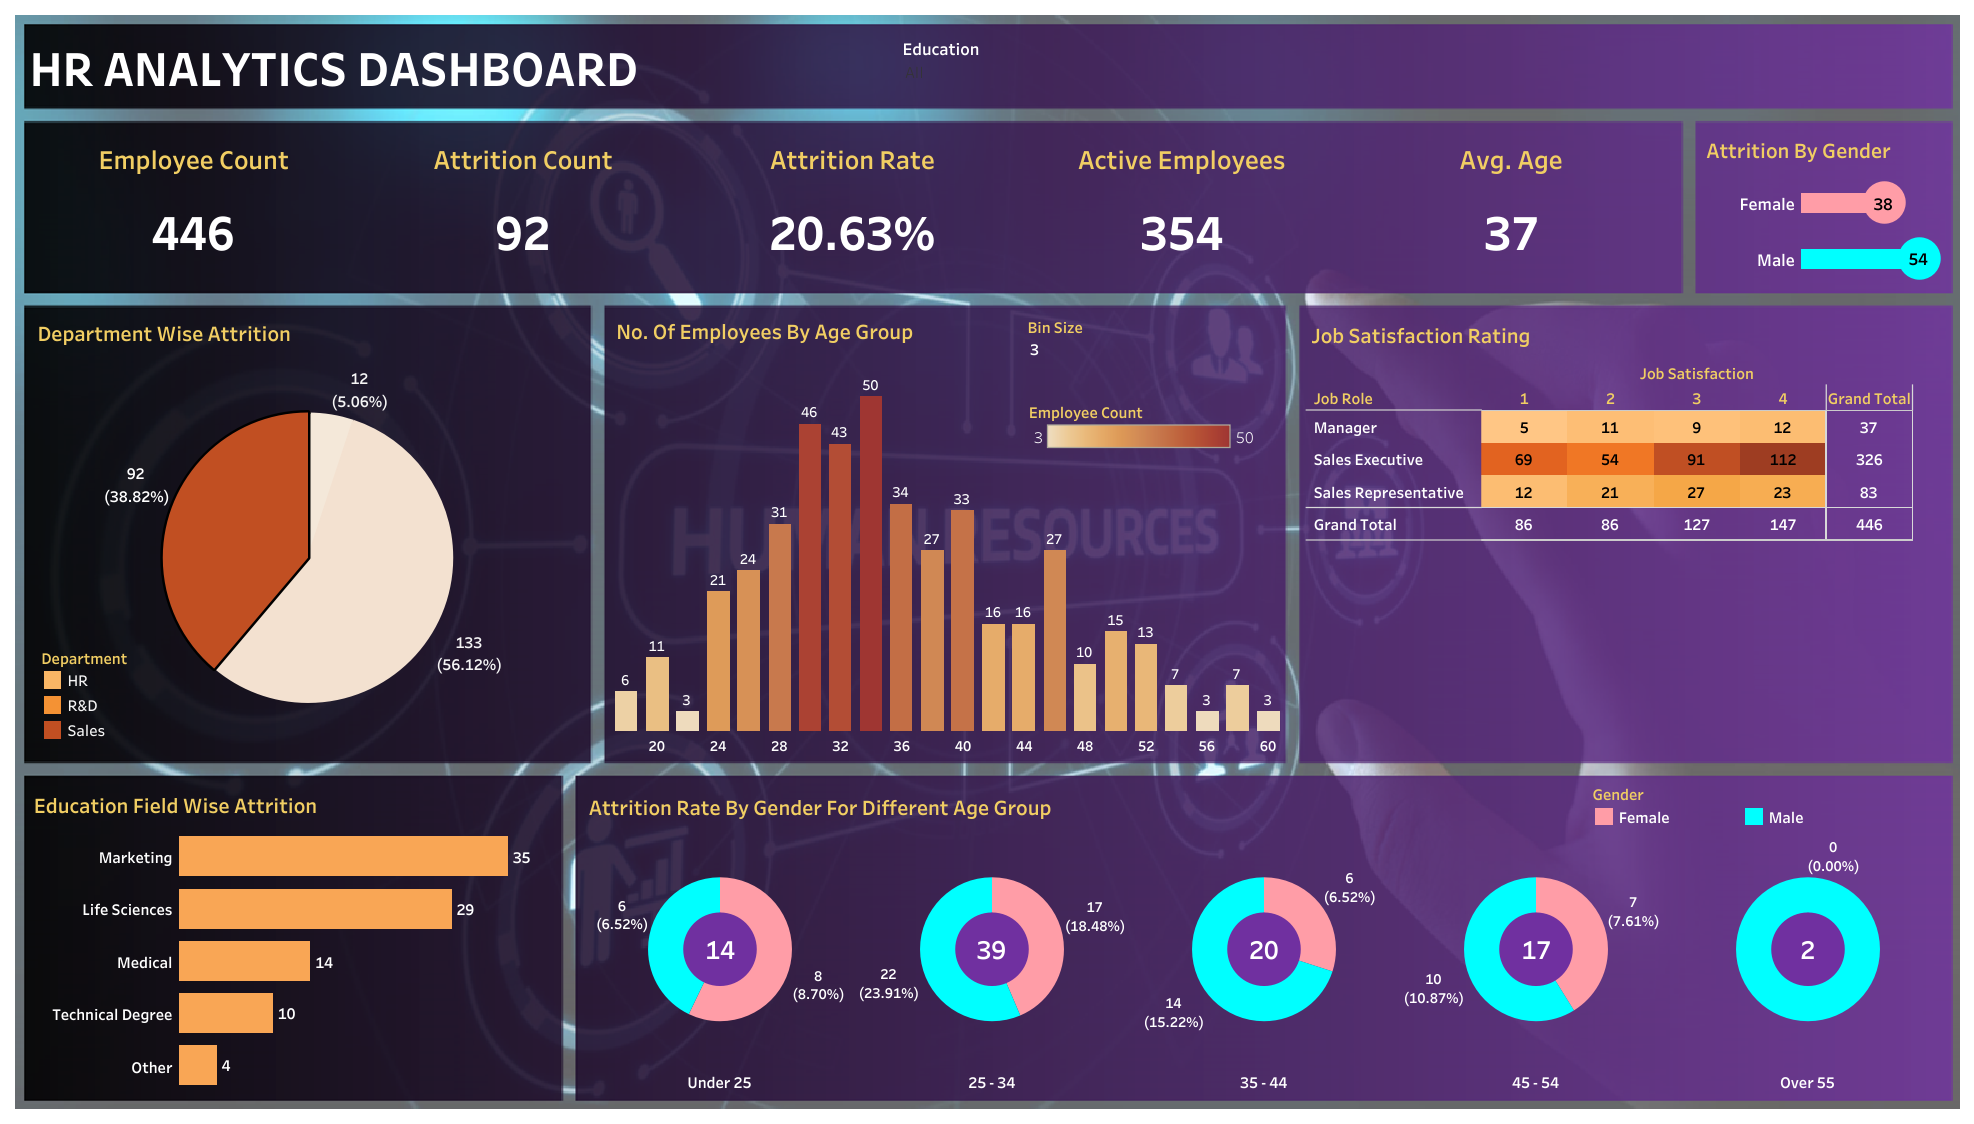

The page's visual inventory and layout, read from the dashboard file:
{"tool":"tableau","page":{"name":"HR ANALYST DASHBOARD","canvas":[1580,900],"ordinal":0},"visuals":[{"type":"image","param":"Image/HR background final.png","box":[8,8,1564,884]},{"type":"text","box":[21,22,961,62]},{"type":"filter","title":"Department Wise Attrition","param":"[federated.0iyh8331ktpjph1eyajxy0ammt3w].[none:Education:nk]","box":[722,28,358,51]},{"type":"worksheet","title":"KPI","mark":"Automatic","box":[23,101,1318,128]},{"type":"worksheet","title":"Attrition By Gender","mark":"Automatic","rows":["Gender"],"cols":["Calculation_411234943899652096","Calculation_411234943899652096"],"box":[1361,102,198,127]},{"type":"worksheet","title":"No. Of Employees By Age Group","mark":"Automatic","rows":["Employee Count"],"cols":["Age (bin)"],"box":[489,247,538,358]},{"type":"worksheet","title":"Department Wise Attrition","mark":"Pie","box":[26,249,440,356]},{"type":"worksheet","title":"Job Satisfaction Rating","mark":"Square","rows":["Job Role"],"cols":["Job Satisfaction"],"box":[1045,250,510,352]},{"type":"parameter","param":"[Parameters].[Parameter 1]","box":[822,251,199,54]},{"type":"legend","title":"No. Of Employees By Age Group","param":"[federated.0iyh8331ktpjph1eyajxy0ammt3w].[sum:Employee Count:qk]","box":[823,316,185,49]},{"type":"legend","title":"Department Wise Attrition","param":"[federated.0iyh8331ktpjph1eyajxy0ammt3w].[none:Department:nk]","box":[32,515,140,85]},{"type":"legend","title":"Attrition Rate By Gender For Different Age Group","param":"[federated.0iyh8331ktpjph1eyajxy0ammt3w].[none:Gender:nk]","box":[1273,624,282,49]},{"type":"worksheet","title":"Education Field Wise Attrition","mark":"Automatic","rows":["Education Field"],"cols":["Calculation_411234943899652096"],"box":[23,626,420,248]},{"type":"worksheet","title":"Attrition Rate By Gender For Different Age Group","mark":"Pie","rows":["Calculation_512565936073117699","Calculation_512565936073117699"],"cols":["CF_age band"],"box":[467,628,1088,246]}]}

Visuals, with their boxes in screenshot pixels (x1, y1, x2, y2), scaled from the page's 1580x900 canvas onto the 1974x1124 screenshot:
image: bbox=(10, 10, 1964, 1114)
text: bbox=(26, 27, 1227, 105)
"Department Wise Attrition" filter: bbox=(902, 35, 1349, 99)
"KPI" worksheet: bbox=(29, 126, 1675, 286)
"Attrition By Gender" worksheet: bbox=(1700, 127, 1948, 286)
"No. Of Employees By Age Group" worksheet: bbox=(611, 308, 1283, 756)
"Department Wise Attrition" worksheet (Pie marks): bbox=(32, 311, 582, 756)
"Job Satisfaction Rating" worksheet (Square marks): bbox=(1306, 312, 1943, 752)
parameter: bbox=(1027, 313, 1276, 381)
"No. Of Employees By Age Group" legend: bbox=(1028, 395, 1259, 456)
"Department Wise Attrition" legend: bbox=(40, 643, 215, 749)
"Attrition Rate By Gender For Different Age Group" legend: bbox=(1590, 779, 1943, 841)
"Education Field Wise Attrition" worksheet: bbox=(29, 782, 553, 1092)
"Attrition Rate By Gender For Different Age Group" worksheet (Pie marks): bbox=(583, 784, 1943, 1092)
